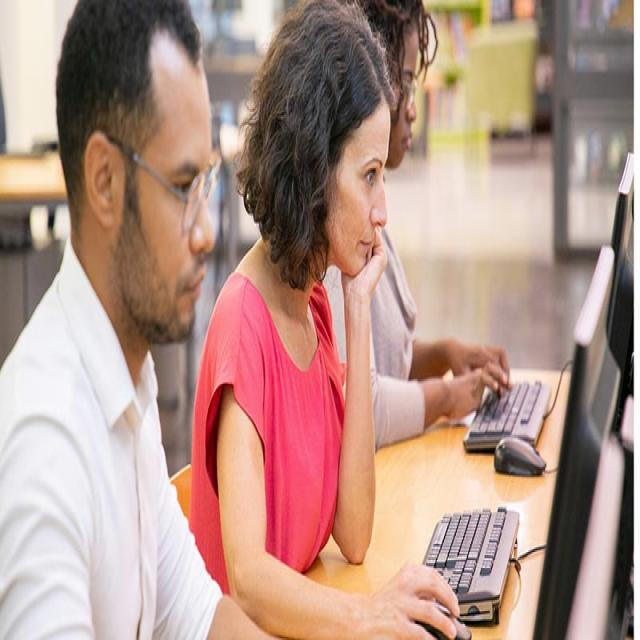adult: (0, 1, 285, 637), (190, 2, 460, 640), (356, 0, 510, 448)
